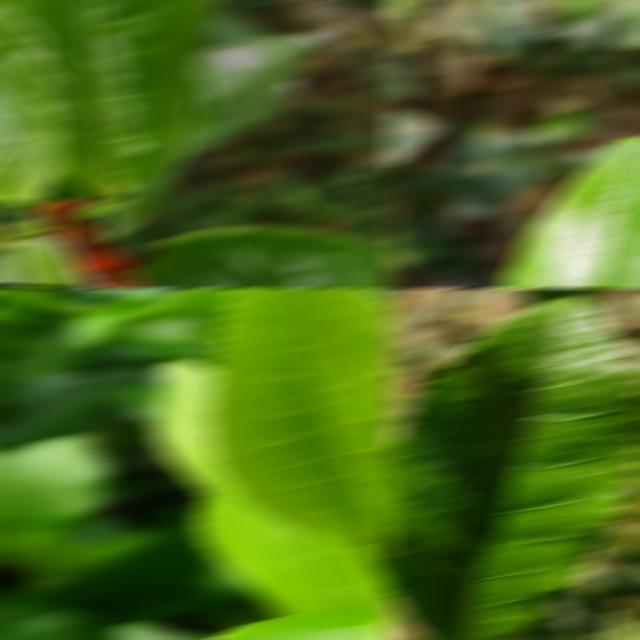Leaf: (385, 298, 640, 640), (151, 361, 389, 614), (208, 288, 395, 547), (0, 0, 217, 195), (500, 137, 640, 288), (184, 11, 328, 155), (129, 225, 395, 288), (0, 435, 117, 537), (207, 613, 395, 640), (520, 288, 594, 306), (603, 611, 640, 640)
